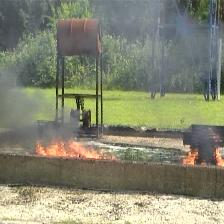fire: (37, 139, 119, 160), (183, 150, 198, 165), (215, 150, 224, 168)
